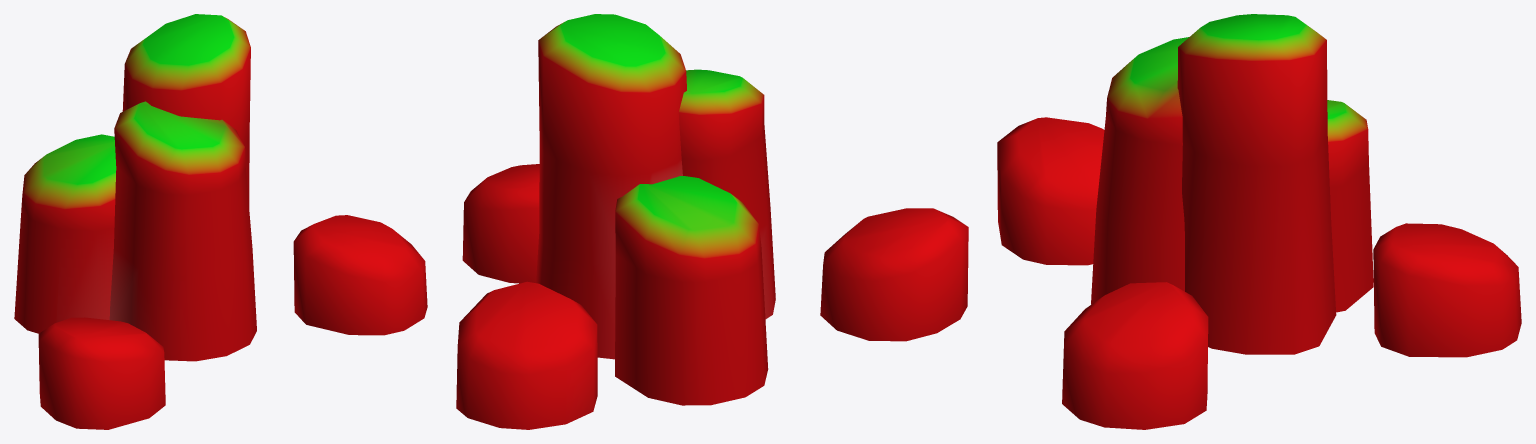
Rendered from Sunken Tomb Boulder Pillar Cluster.fbx.
3 renders of one model, left to right at view 1: azimuth 30°, elevation 25°; view 2: azimuth 150°, elevation 25°; view 3: azimuth 270°, elevation 25°, orthographic. The views are drawn at different scales.
Visible parts, largest first — view 1: Layered Boulder Cluster; view 2: Layered Boulder Cluster; view 3: Layered Boulder Cluster.
Part boxes in pixels (box(x1,y1,x2,y2)): Layered Boulder Cluster: box(14, 14, 427, 429); Layered Boulder Cluster: box(456, 14, 968, 429); Layered Boulder Cluster: box(997, 14, 1521, 429).
Bounding box in the file's own units: 949 × 619 × 930.
